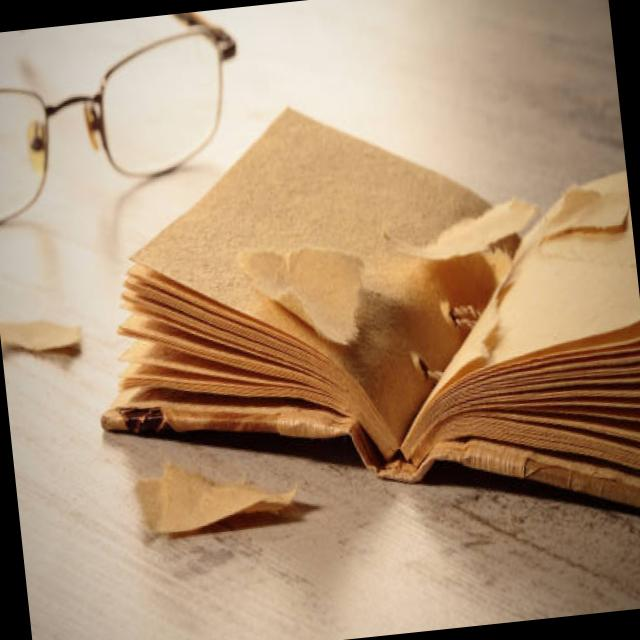electronic: (69, 69, 640, 573), (130, 446, 302, 540), (0, 310, 83, 357)
